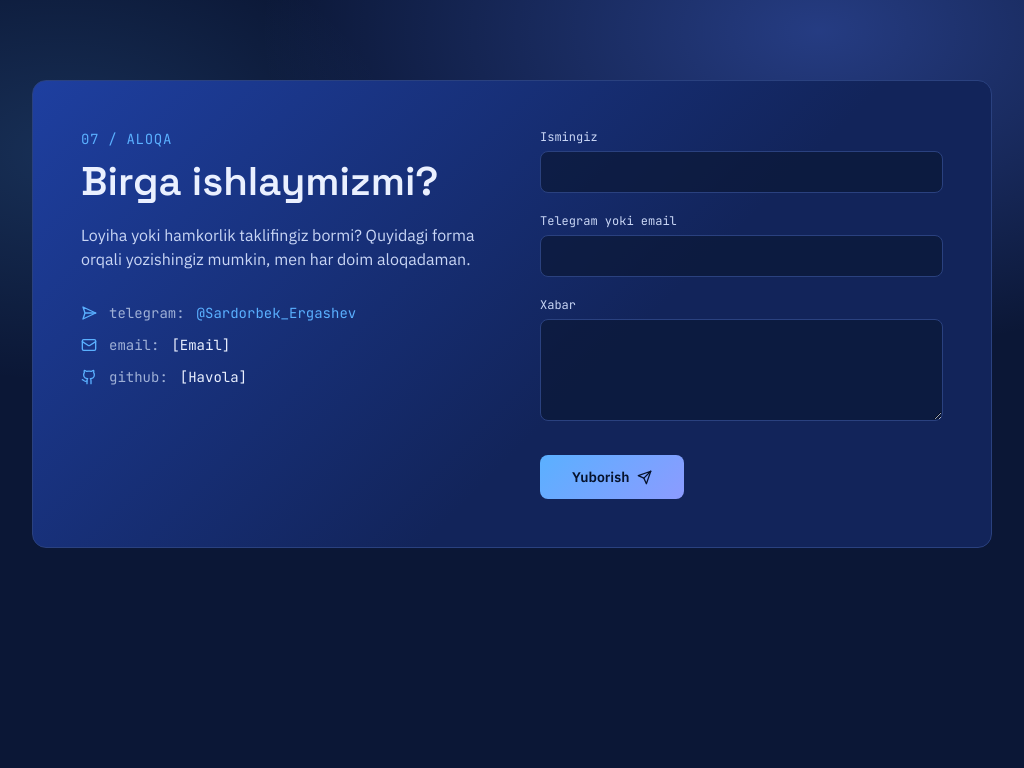
Test case: ContactSection Form Validation › validates required fields when submitted empty
Click the button "Yuborish".
click(612, 477)  # box left=540, top=455, right=684, bottom=499
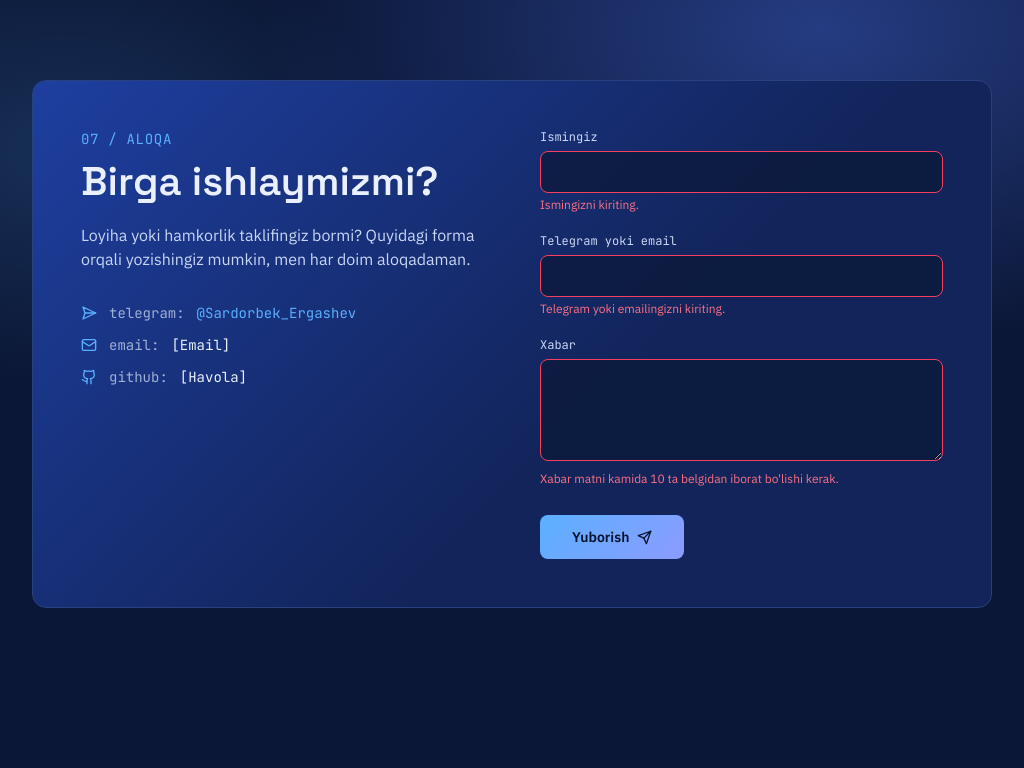
expect the text "Ismingizni kiriting." is shown: met, box left=540, top=197, right=639, bottom=212
expect the text "Telegram yoki emailingizni kiriting." is shown: met, box left=540, top=301, right=725, bottom=316
expect the text "Xabar matni kamida 10 ta belgidan iborat bo'lishi kerak." is shown: met, box left=540, top=471, right=839, bottom=486
